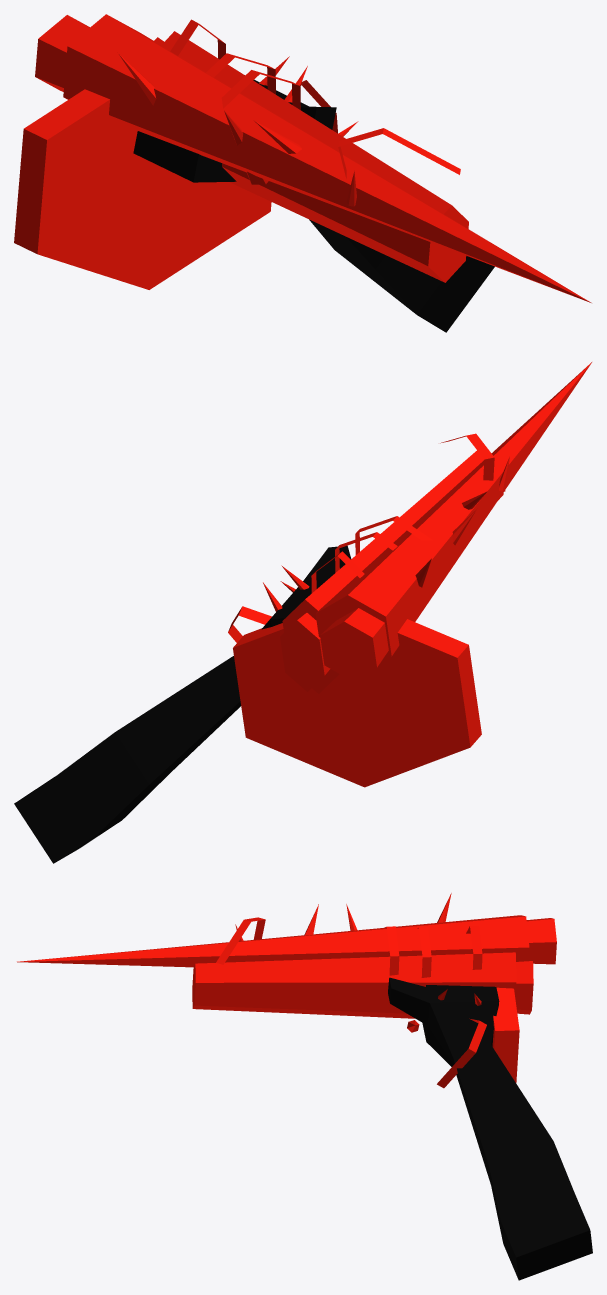
Rendered from gun.fbx.
3 renders of one model, top to bottom at view 1: azimuth 30°, elevation 25°; view 2: azimuth 150°, elevation 25°; view 3: azimuth 270°, elevation 25°, orthographic. The views are drawn at different scales.
Parts seen in each view (by area): view 1: Cone.011; view 2: Cone.011; view 3: Cone.011.
Part boxes in pixels (x1,y1,x2,y2): Cone.011: [14, 14, 591, 332]; Cone.011: [14, 362, 591, 863]; Cone.011: [17, 893, 592, 1280].
Size of the model in its own units: 57.76 by 45.89 by 87.96.
